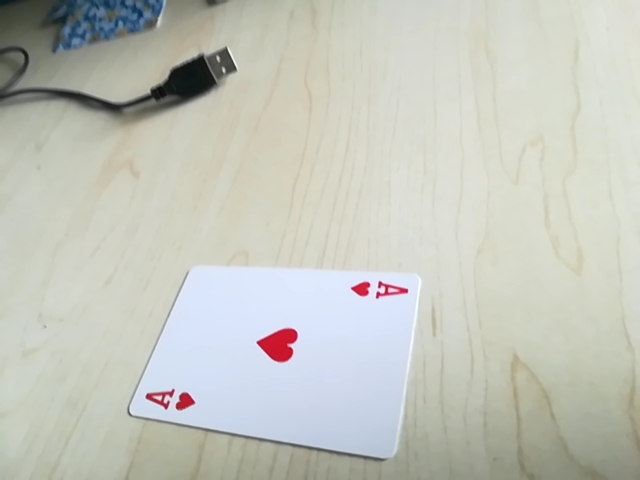hx a: (346, 273, 415, 307), (134, 382, 202, 415)
